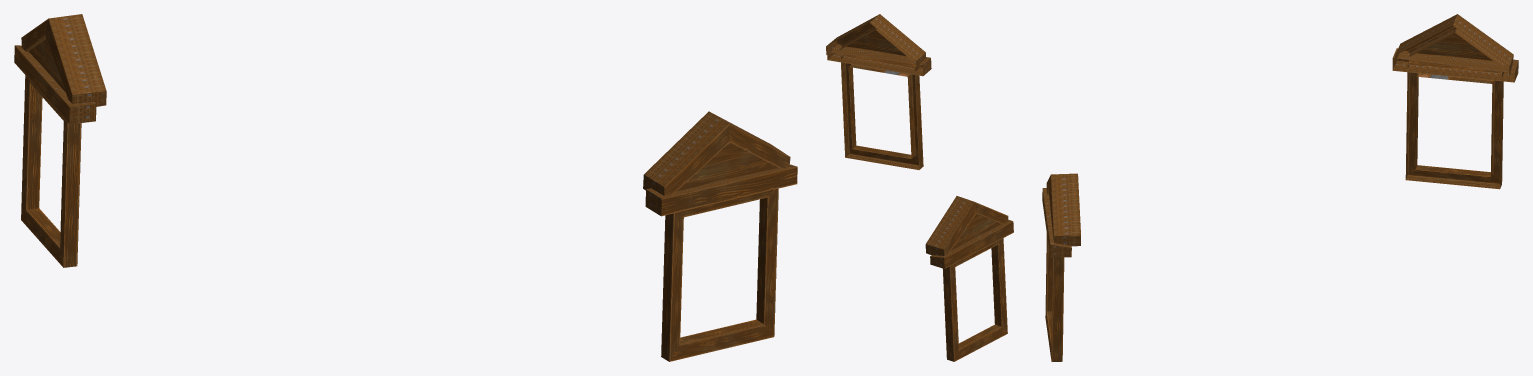
The picture shows the model from 3 angles, left to right: view 1: azimuth 30°, elevation 25°; view 2: azimuth 150°, elevation 25°; view 3: azimuth 270°, elevation 25°; orthographic projection. The views are drawn at different scales.
Visible parts, largest first — view 1: Cube.741; view 2: Cube.741; view 3: Cube.741.
Part boxes in pixels (left/top/right/bottom): Cube.741: left=14, top=14, right=797, bottom=361; Cube.741: left=826, top=14, right=1013, bottom=361; Cube.741: left=1042, top=14, right=1518, bottom=361.
Bounding box in the file's own units: 1059 × 475 × 1149.
Materials: 1 (1 with a texture image).
